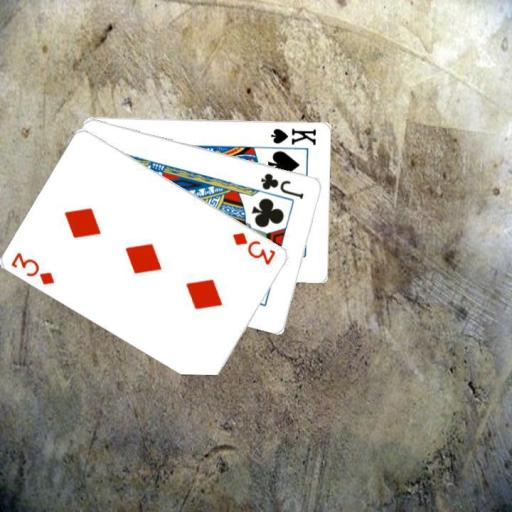3D: (229, 229, 278, 267), (8, 249, 56, 286)
JC: (258, 169, 306, 201)
KS: (268, 124, 319, 146)
